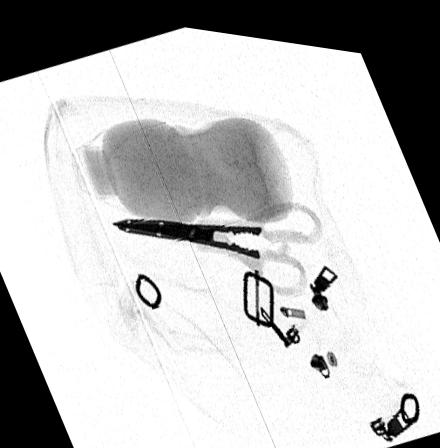Scissors: (113, 193, 324, 288)
